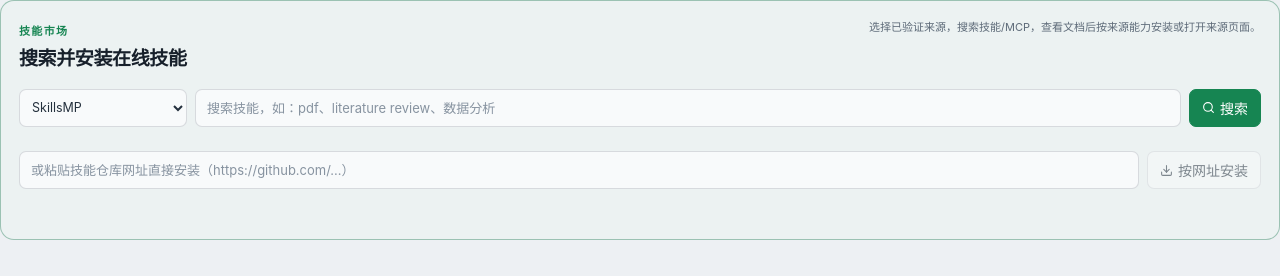
Test: MarketBrowserPanel › 非 GitHub 网址给出明确拒绝提示
Type "https://example.com/not-github" into the field with test id "market-install-url-skill" at (579, 170), box [19,151,1139,189]
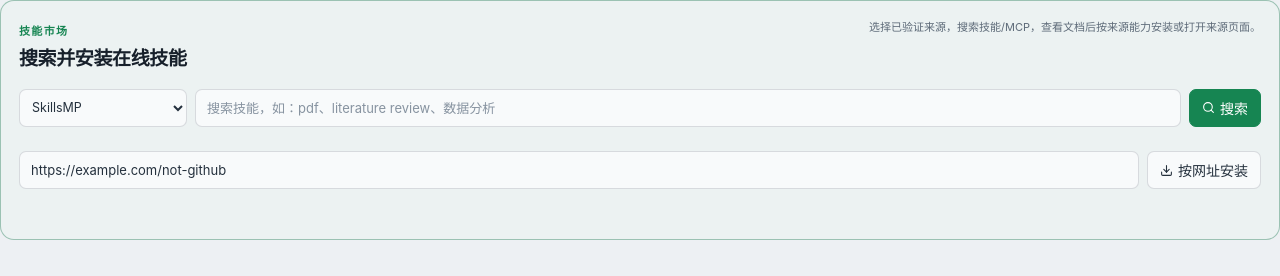
Click the button with test id "market-install-url-run-skill" at (1204, 170), box [1147,151,1261,189]
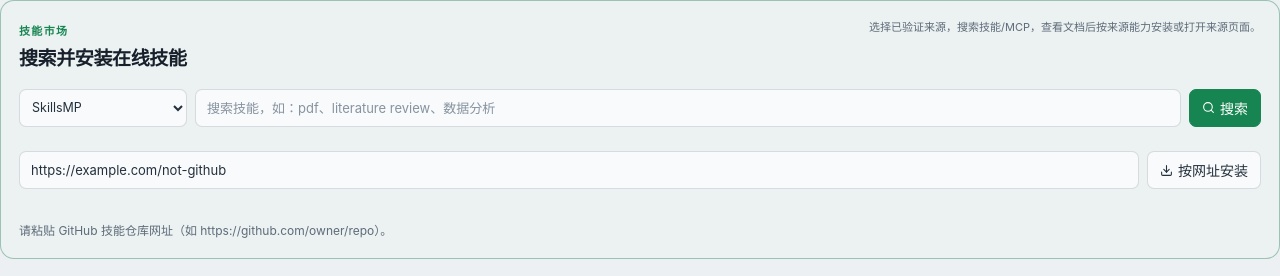
Expected: the message with test id "market-status-skill" shows "GitHub", [19,223,392,238]
